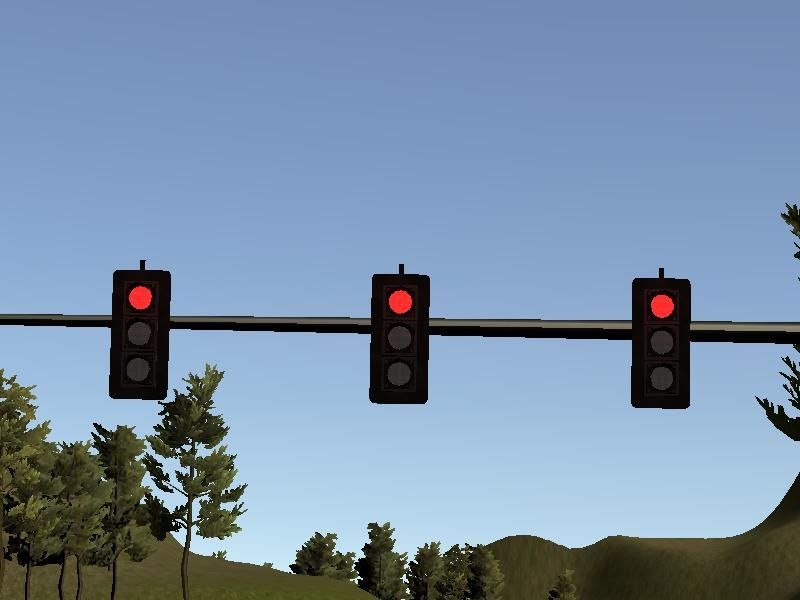red: (110, 269, 172, 400), (630, 278, 692, 409), (368, 275, 430, 406)
